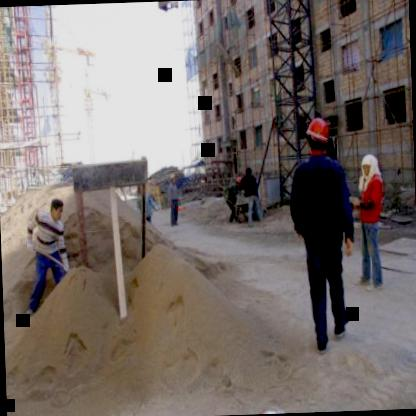helmet: (304, 115, 330, 154)
